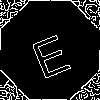E: (25, 25, 73, 80)
